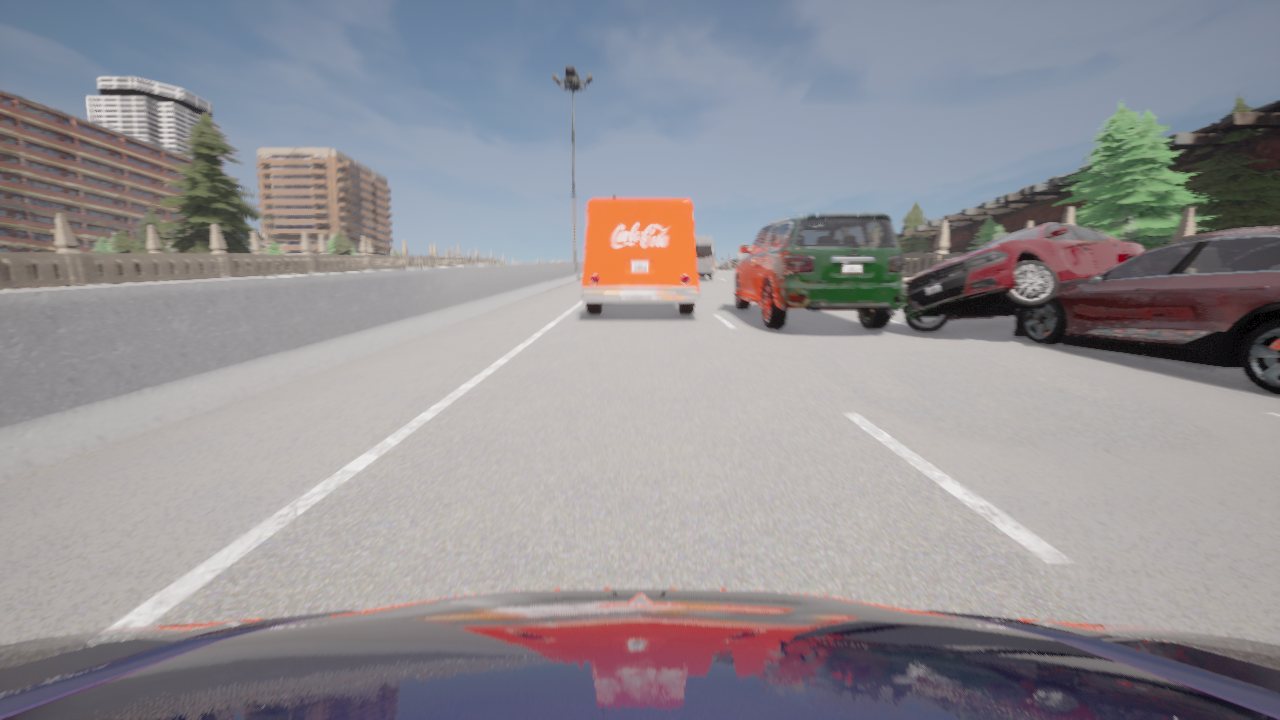cyclist: (0, 588, 1279, 719), (1012, 226, 1279, 395), (902, 224, 1144, 331), (733, 213, 904, 329), (580, 199, 700, 314), (694, 237, 714, 280)
